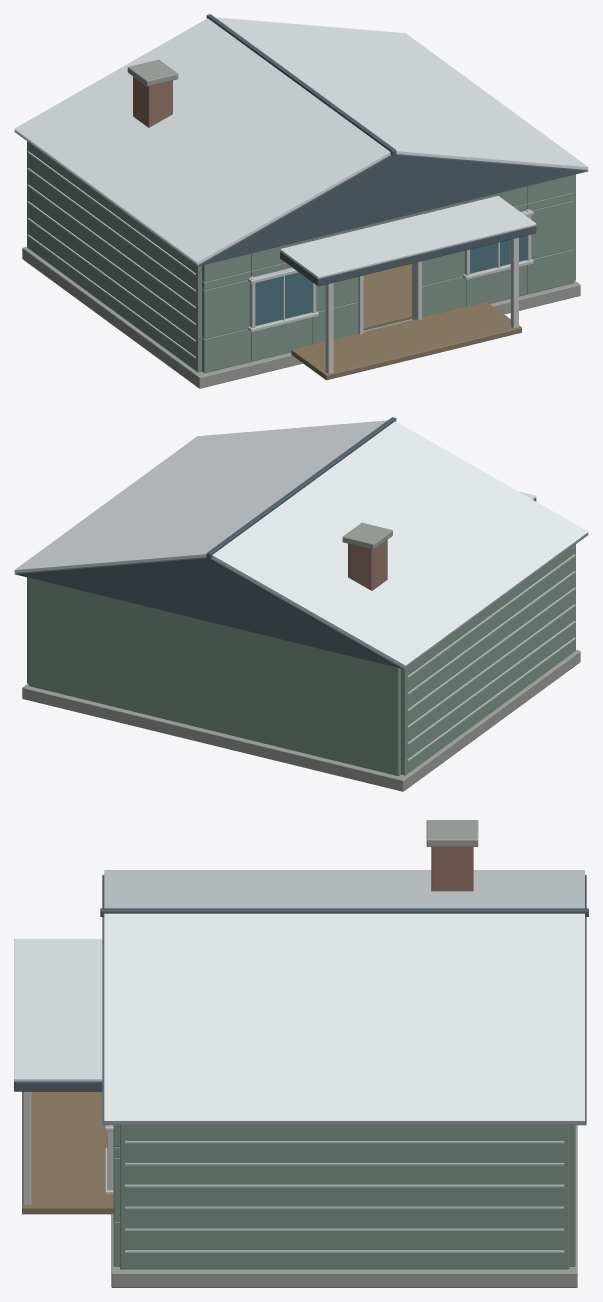
Rendered from house_ranch_sage.glb.
The picture shows the model from 3 angles, top to bottom: view 1: azimuth 30°, elevation 25°; view 2: azimuth 150°, elevation 25°; view 3: azimuth 270°, elevation 25°; orthographic projection. The views are drawn at different scales.
Visible parts, largest first — view 1: house_ranch_sage; view 2: house_ranch_sage; view 3: house_ranch_sage.
Part boxes in pixels (x1,y1,x2,y2): house_ranch_sage: (14,14,588,388); house_ranch_sage: (14,417,588,791); house_ranch_sage: (14,820,588,1287).
Size of the model in its own units: 10.57 by 5.25 by 10.23.
